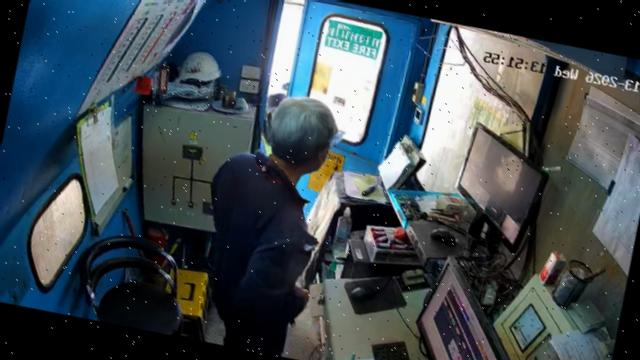Head: (267, 97, 338, 174)
People: (210, 98, 337, 356)
